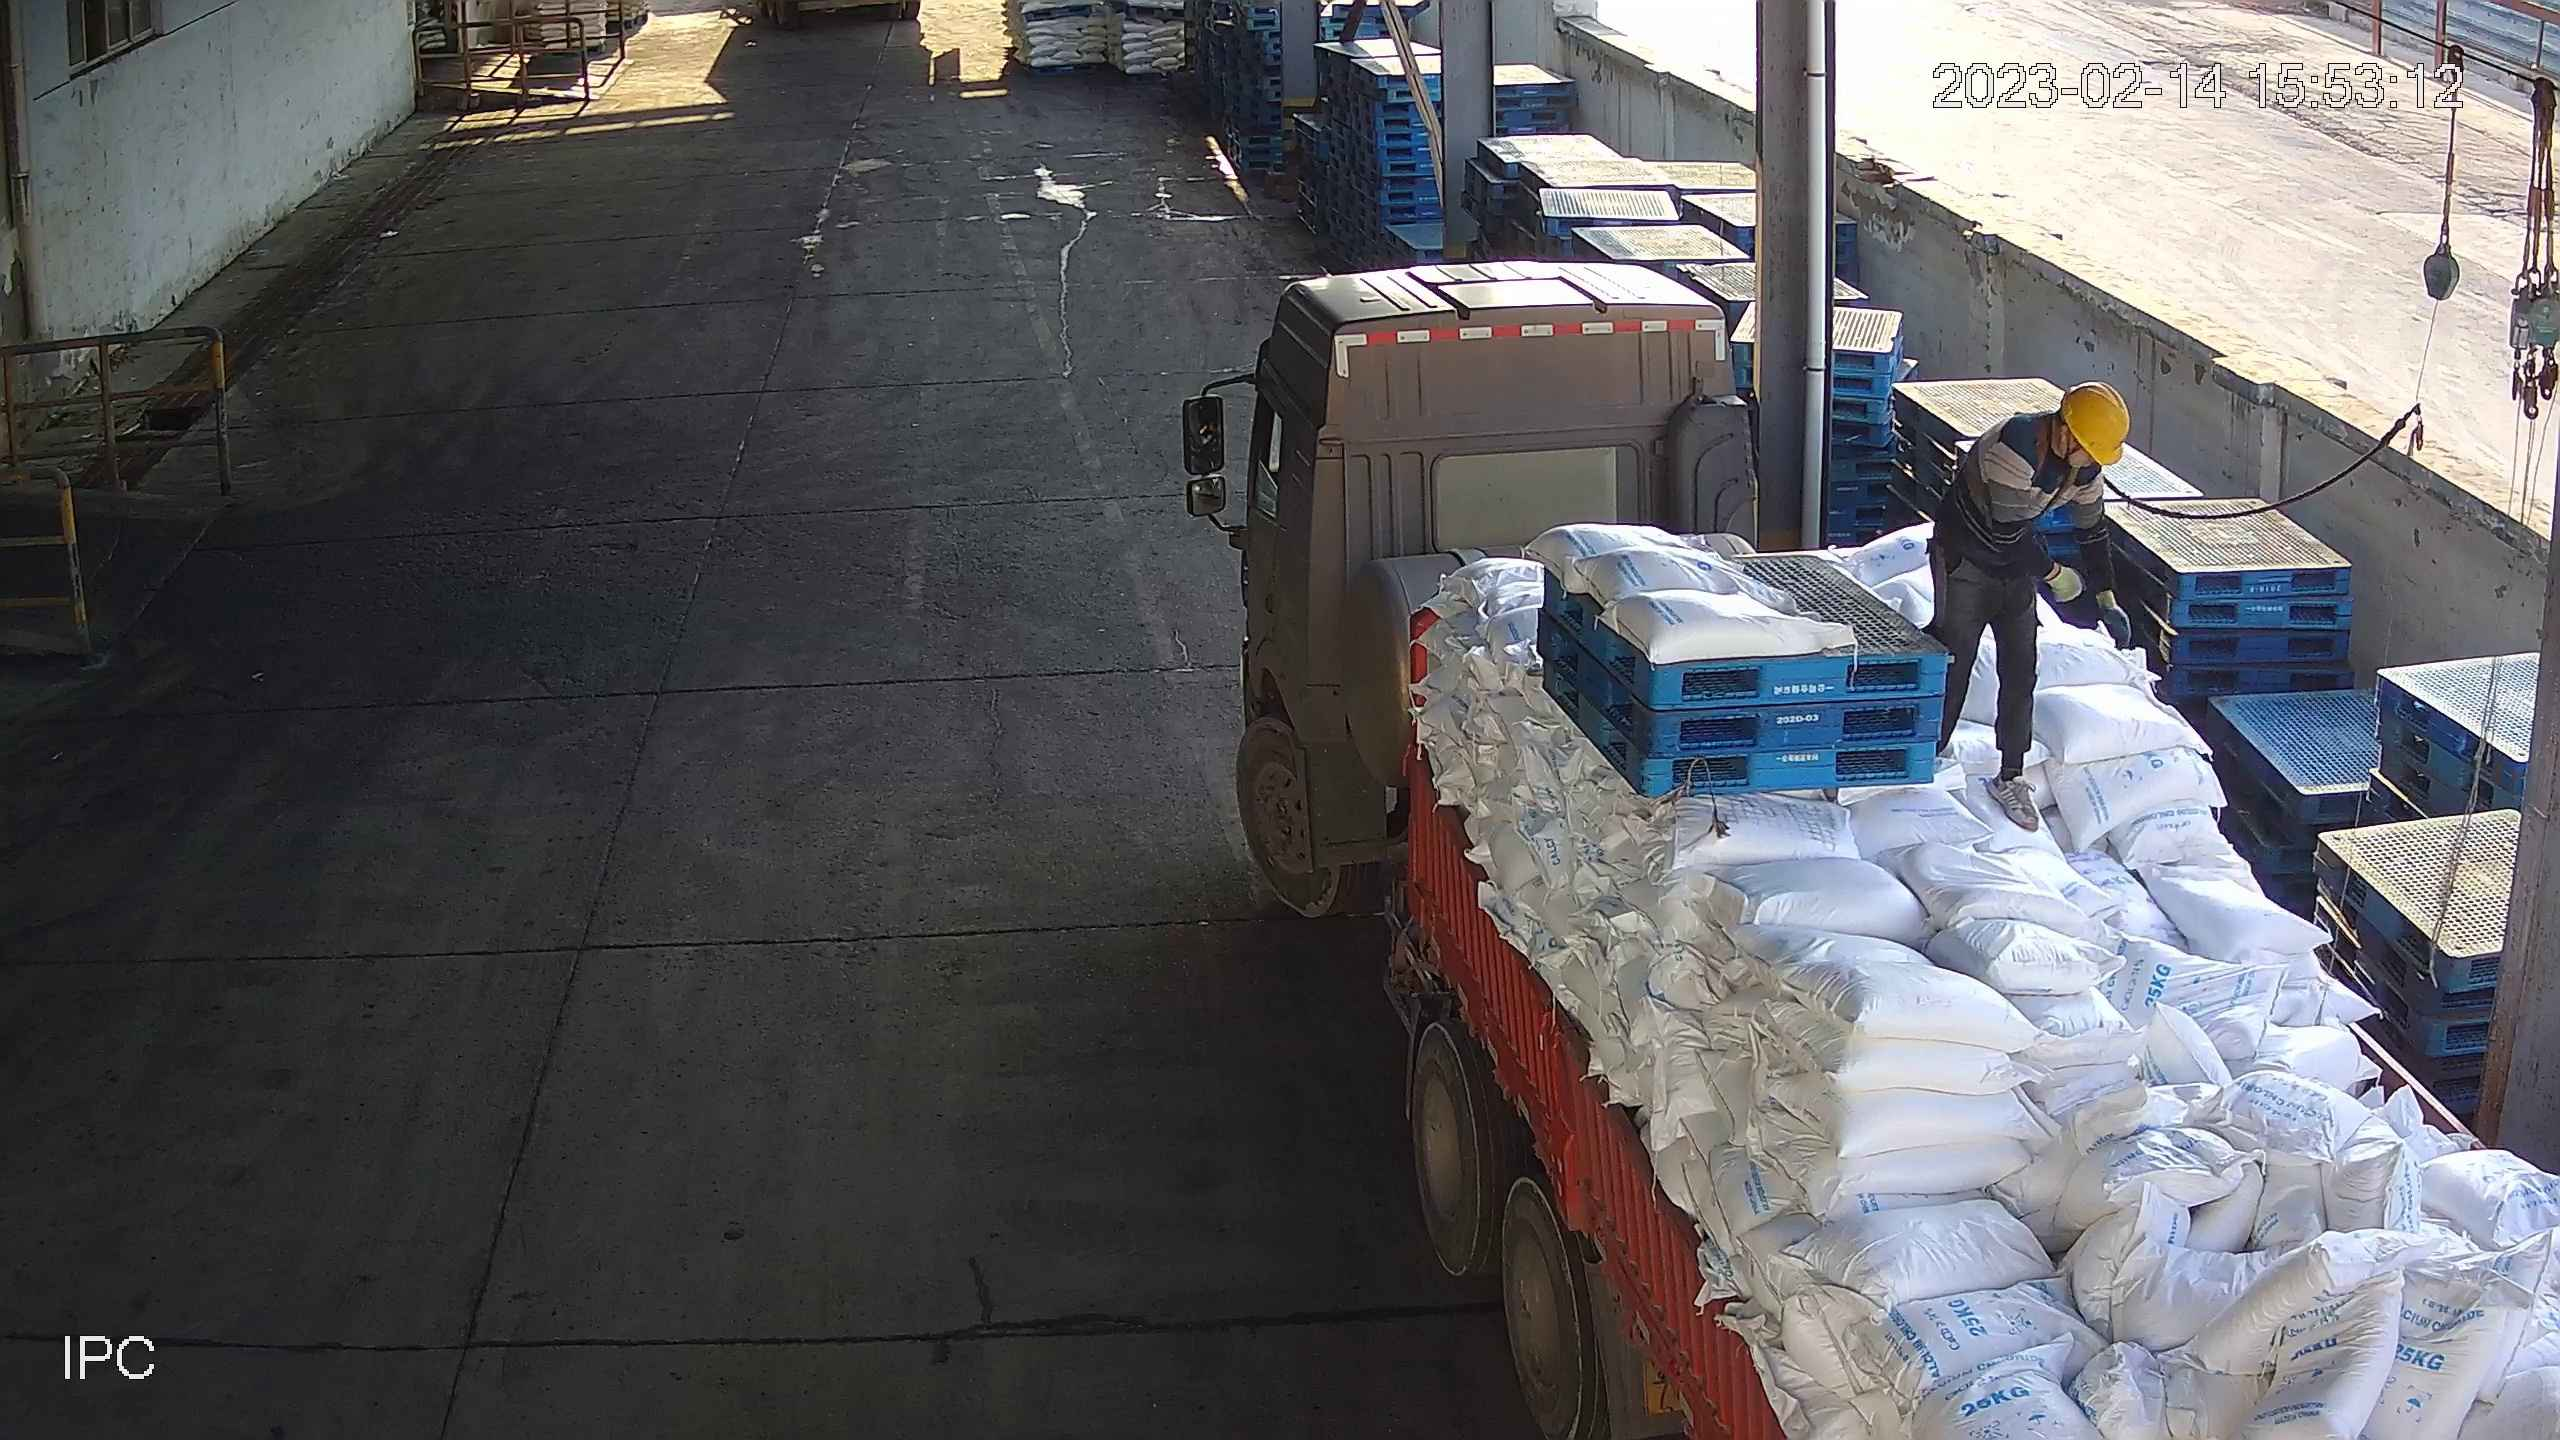belt: (2032, 411, 2080, 524)
head: (1977, 379, 2134, 506)
helmet: (2059, 379, 2130, 466)
people: (1926, 380, 2134, 830)
truck: (1180, 261, 2560, 1440)
